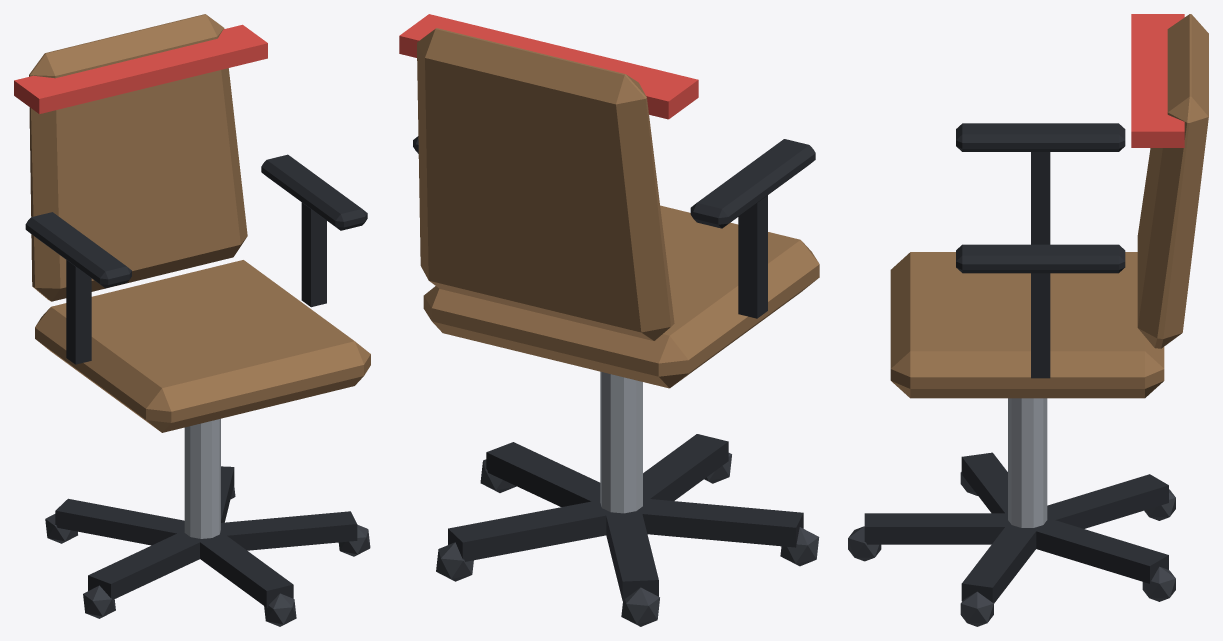
Rendered from chair_p0_3.glb.
3 renders of one model, left to right at view 1: azimuth 30°, elevation 25°; view 2: azimuth 150°, elevation 25°; view 3: azimuth 270°, elevation 25°, orthographic. The views are drawn at different scales.
Parts seen in each view (by area): view 1: chair_p0_3_mesh; view 2: chair_p0_3_mesh; view 3: chair_p0_3_mesh.
Boxes of the visible parts, x1,y1,x2,y2 form: chair_p0_3_mesh: (14,14,370,626); chair_p0_3_mesh: (399,14,819,626); chair_p0_3_mesh: (848,14,1208,626).
Size of the model in its own units: 0.5821 by 0.9429 by 0.6091.
